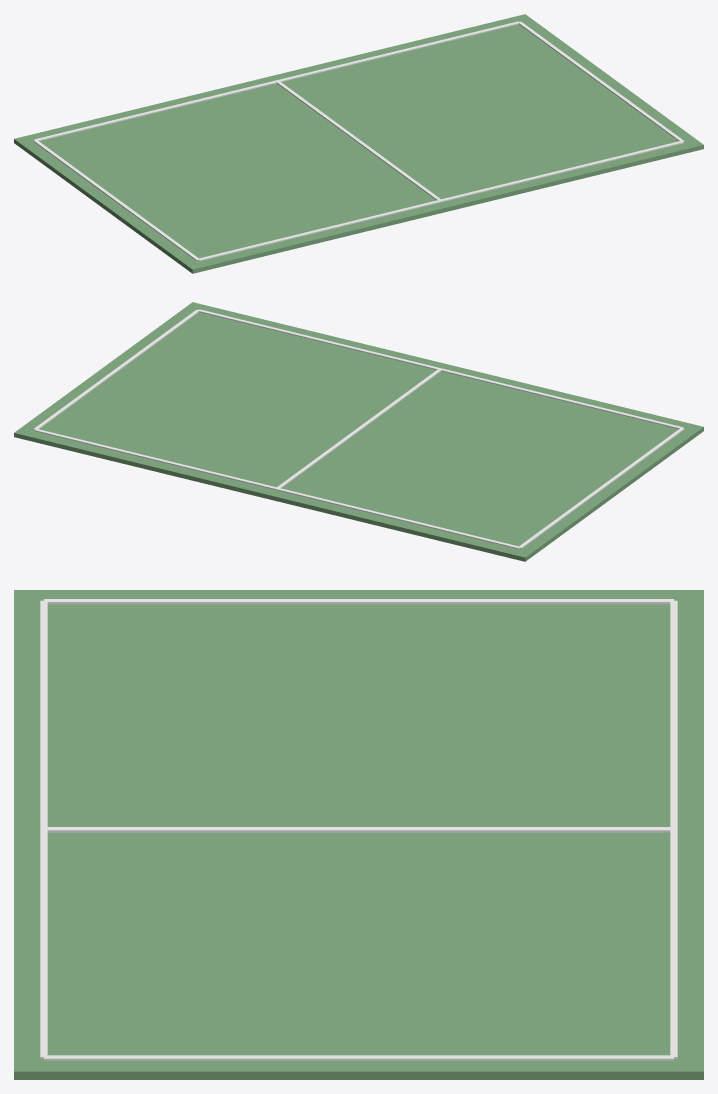
The picture shows the model from 3 angles, top to bottom: view 1: azimuth 30°, elevation 25°; view 2: azimuth 150°, elevation 25°; view 3: azimuth 270°, elevation 25°; orthographic projection. The views are drawn at different scales.
Parts seen in each view (by area): view 1: Court surface, Sideline, Sideline.001, Line, Line.002, Line.001; view 2: Court surface, Sideline.001, Sideline, Line, Line.002, Line.001; view 3: Court surface, Line.002, Line, Line.001, Sideline.001, Sideline.
Part boxes in pixels (box(x1,y1,x2,y2)): Court surface: box(14, 14, 703, 273); Sideline: box(198, 141, 683, 261); Sideline.001: box(34, 21, 519, 141); Line: box(33, 140, 199, 260); Line.002: box(519, 21, 684, 141); Line.001: box(276, 81, 441, 200); Court surface: box(14, 302, 703, 561); Sideline.001: box(34, 428, 520, 549); Sideline: box(199, 309, 683, 429); Line: box(519, 428, 684, 548); Line.002: box(33, 309, 199, 429); Line.001: box(277, 368, 441, 488); Court surface: box(14, 590, 703, 1079); Line.002: box(44, 1055, 673, 1060); Line: box(44, 599, 673, 604); Line.001: box(44, 827, 670, 832); Sideline.001: box(670, 600, 677, 1058); Sideline: box(40, 600, 47, 1058).
Bounding box in the file's own units: 380 × 3.8 × 230.
